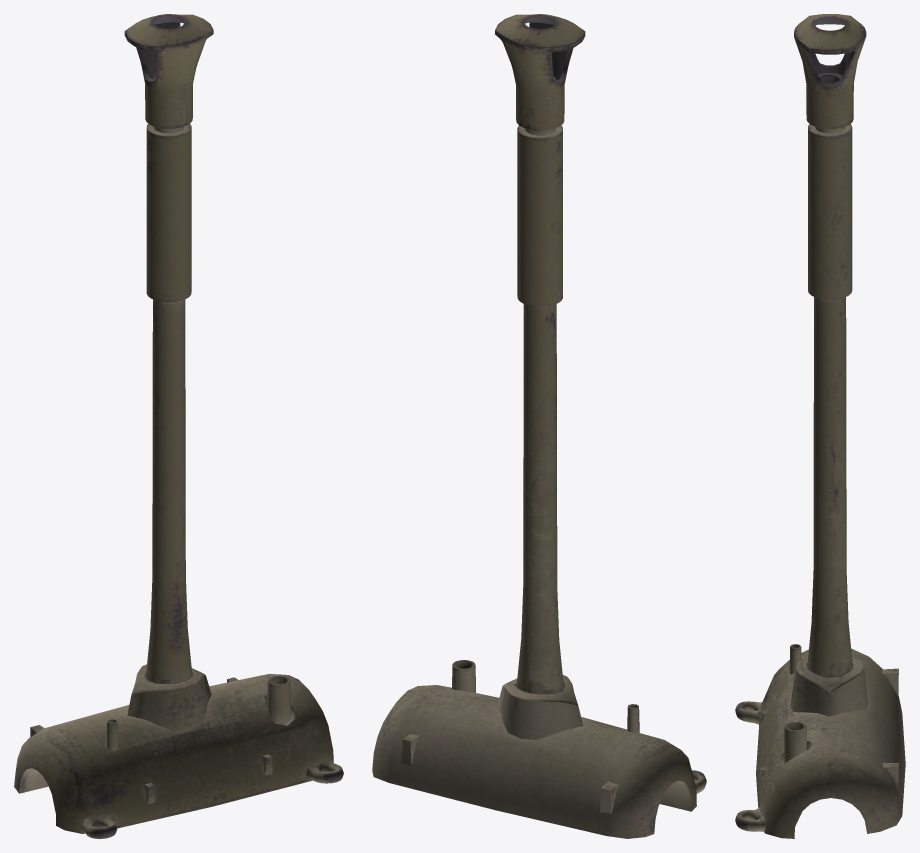
File: Gun_01.glb
3 views of the same model, side by side, from view 1: azimuth 30°, elevation 25°; view 2: azimuth 150°, elevation 25°; view 3: azimuth 270°, elevation 25° (orthographic). The views are drawn at different scales.
Visible parts, largest first — view 1: set_0_group_0; view 2: set_0_group_0; view 3: set_0_group_0.
Boxes of the visible parts, x1,y1,x2,y2 form: set_0_group_0: [14, 14, 343, 838]; set_0_group_0: [372, 14, 706, 838]; set_0_group_0: [735, 14, 905, 838].
Bounding box in the file's own units: 1.39 × 3.69 × 0.7627.
1 material, 1 textured.
